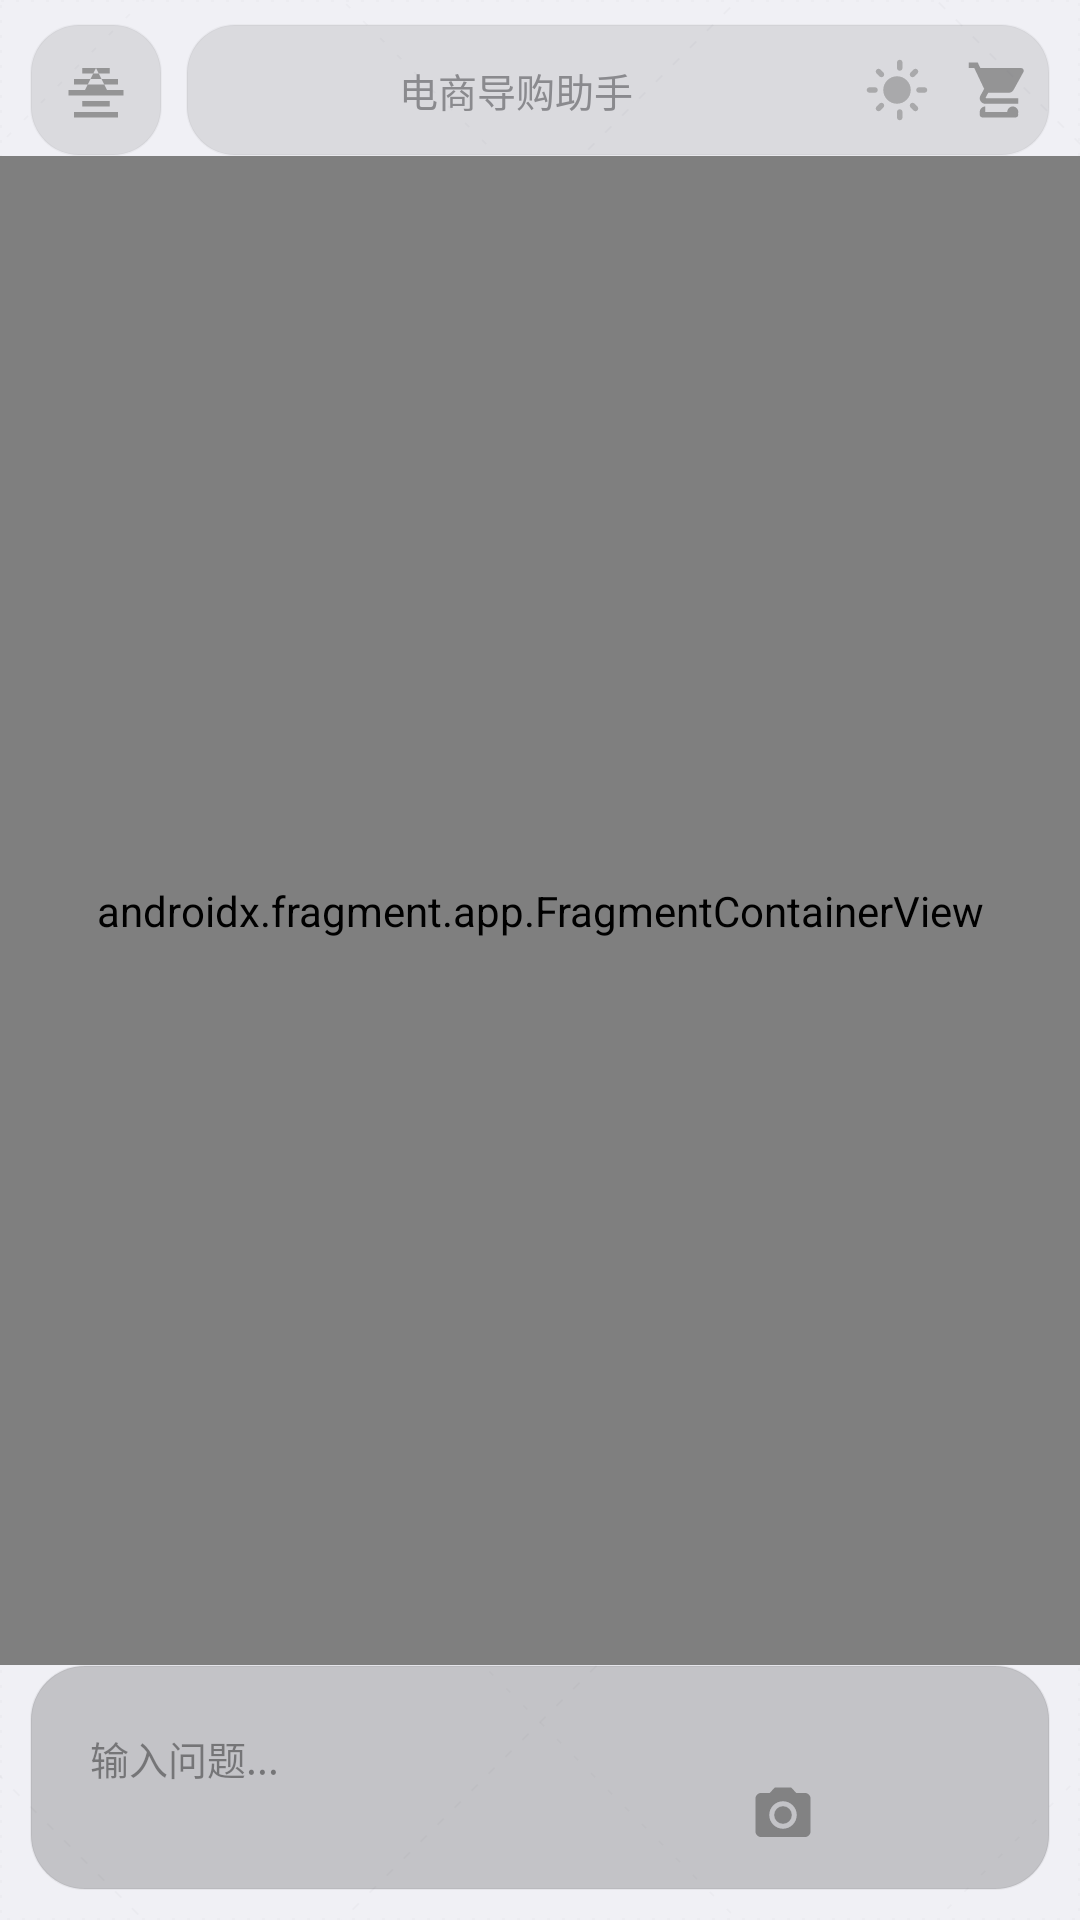

Named icons in this screenshot (1080x1920) and their centers, (x=x, y=y):
切换主题: (x=897, y=90)
拍照: (x=783, y=1812)
购物车: (x=996, y=90)
